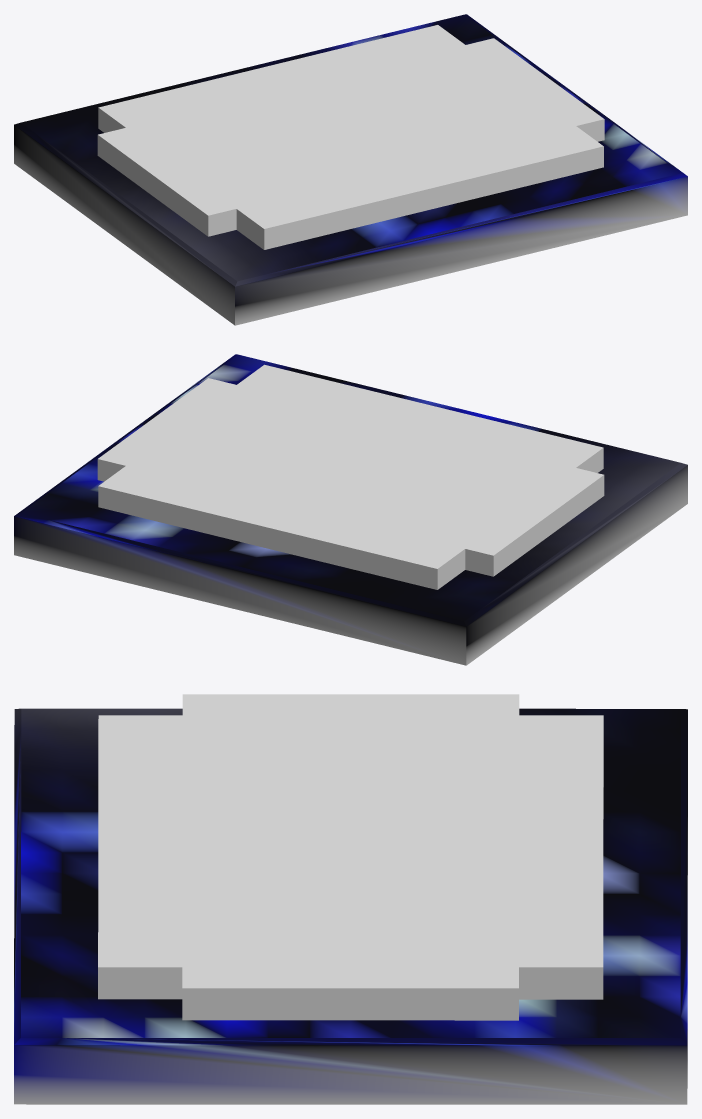
File: Arena34.fbx_Collection_10.fbx
3 views of the same model, one above another, from view 1: azimuth 30°, elevation 25°; view 2: azimuth 150°, elevation 25°; view 3: azimuth 270°, elevation 25° (orthographic). The views are drawn at different scales.
Visible parts, largest first — view 1: Cube.017, Cube.006; view 2: Cube.017, Cube.006; view 3: Cube.017, Cube.006.
Part boxes in pixels (x1,y1,x2,y2): Cube.017: [97, 25, 604, 249]; Cube.006: [14, 14, 687, 325]; Cube.017: [97, 364, 604, 589]; Cube.006: [14, 354, 687, 665]; Cube.017: [98, 694, 603, 1020]; Cube.006: [14, 708, 687, 1104].
Size of the model in its own units: 615 by 81.16 by 521.
